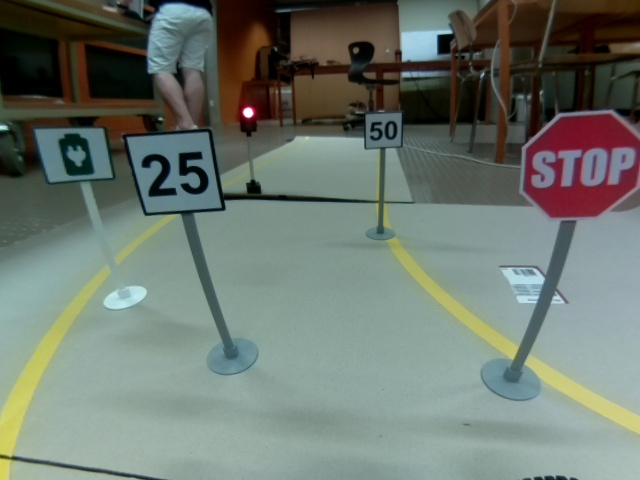battery: (32, 125, 116, 185)
speed25: (123, 128, 226, 217)
speed50: (364, 111, 404, 149)
stop: (519, 110, 639, 220)
trafficLightRed: (239, 102, 258, 132)
